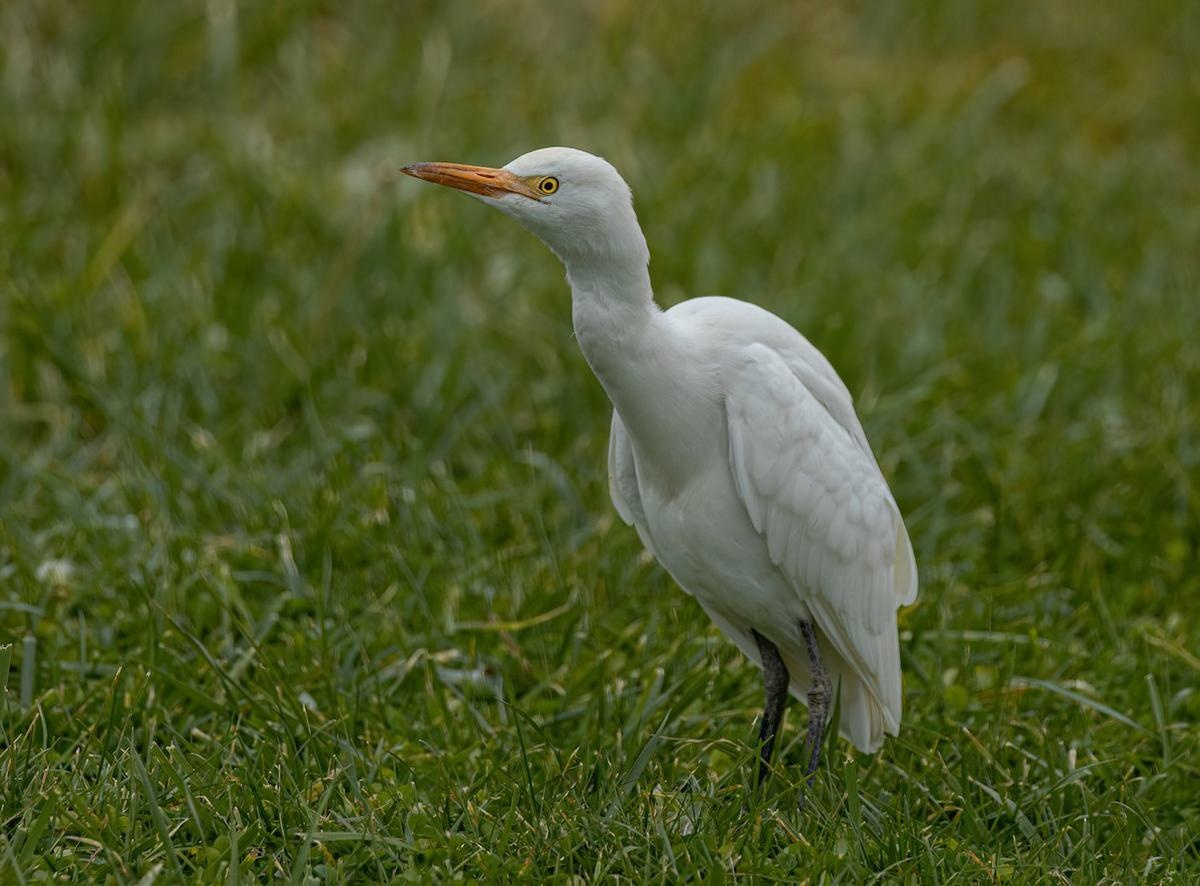egret: (396, 134, 943, 802)
